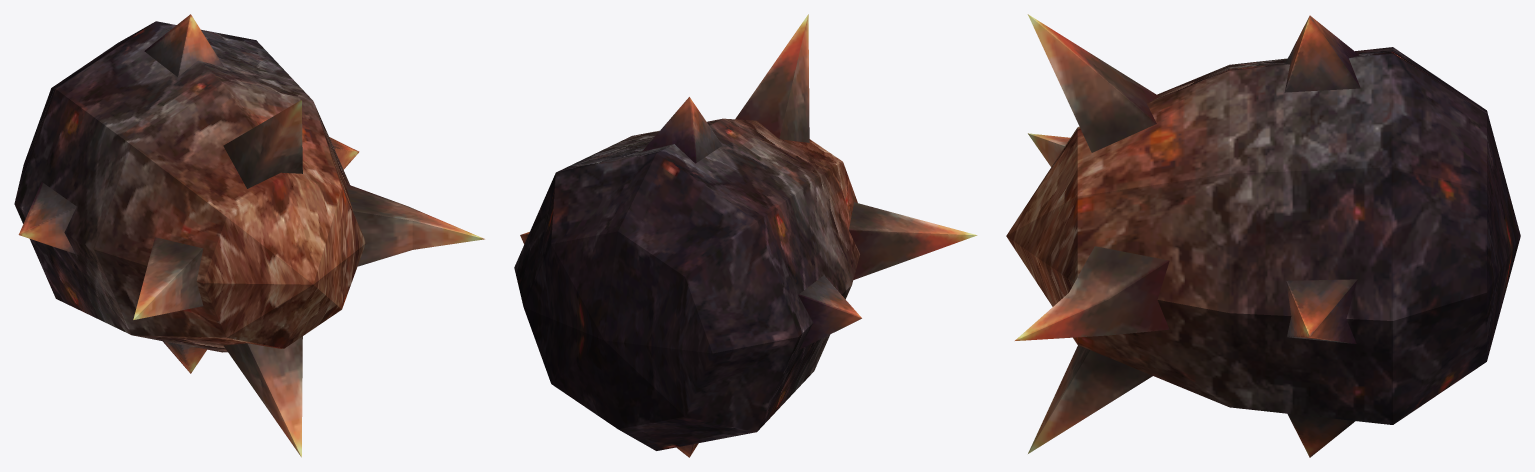
Rendered from beiou_yewai_329_longruan_b.obj.
3 views of the same model, side by side, from view 1: azimuth 30°, elevation 25°; view 2: azimuth 150°, elevation 25°; view 3: azimuth 270°, elevation 25° (orthographic). The views are drawn at different scales.
Visible parts, largest first — view 1: beiou_yewai_329_longruan_b; view 2: beiou_yewai_329_longruan_b; view 3: beiou_yewai_329_longruan_b.
Boxes of the visible parts, left/top/right/bottom form: beiou_yewai_329_longruan_b: left=14, top=14, right=484, bottom=457; beiou_yewai_329_longruan_b: left=514, top=14, right=977, bottom=457; beiou_yewai_329_longruan_b: left=1006, top=14, right=1520, bottom=457.
Size of the model in its own units: 83.1 by 82.4 by 86.82.
1 material, 1 textured.
